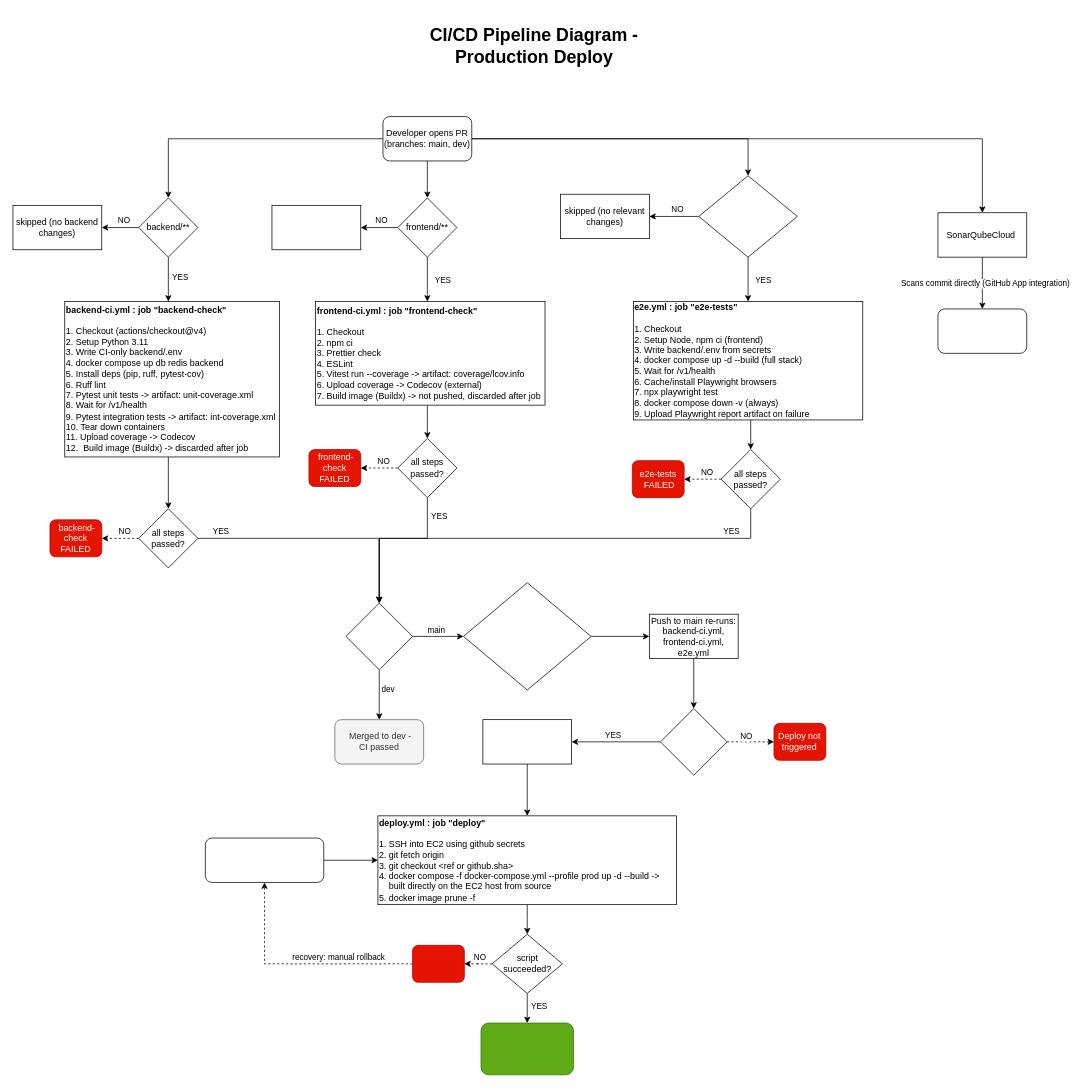
Some shapes in this 1082 by 1088 pixel diagram are drawn without their labels. Here are the shapes that lost their labels. From the top down, the box of each, then its label:
(271, 205, 361, 250): skipped (no frontend changes)
(698, 175, 797, 257): frontend/** or backend/** or docker-compose*.yml
(937, 308, 1027, 353): SonarCloud Code Analysis Report
(345, 602, 413, 670): Merge target
(463, 582, 591, 690): Branch protection on main: requires backend-check + frontend-check + e2e tests
(482, 719, 572, 764): triggers deploy
(660, 708, 727, 775): success?
(205, 837, 324, 882): workflow_dispatch (input: ref - commit SHA/tag, blank = latest main)
(412, 945, 464, 982): Deploy FAILED
(480, 1022, 574, 1075): Running in Production EC2 instance https://savannasentinel.co.za
